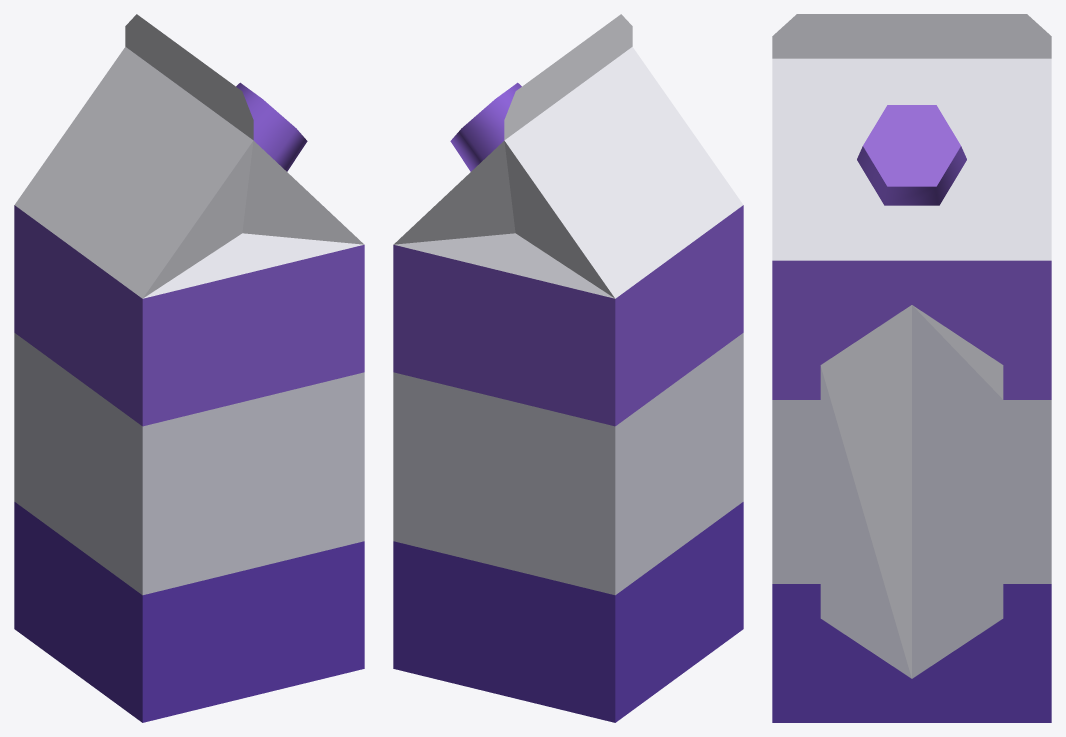
Rendered from caixa-leite.glb.
3 renders of one model, left to right at view 1: azimuth 30°, elevation 25°; view 2: azimuth 150°, elevation 25°; view 3: azimuth 270°, elevation 25°, orthographic. The views are drawn at different scales.
Visible parts, largest first — view 1: carton; view 2: carton; view 3: carton.
Boxes of the visible parts, x1=… form: carton: x1=14, y1=14, x2=364, y2=722; carton: x1=393, y1=14, x2=743, y2=722; carton: x1=772, y1=14, x2=1051, y2=722.
Size of the model in its own units: 0.23 by 0.5905 by 0.23.
